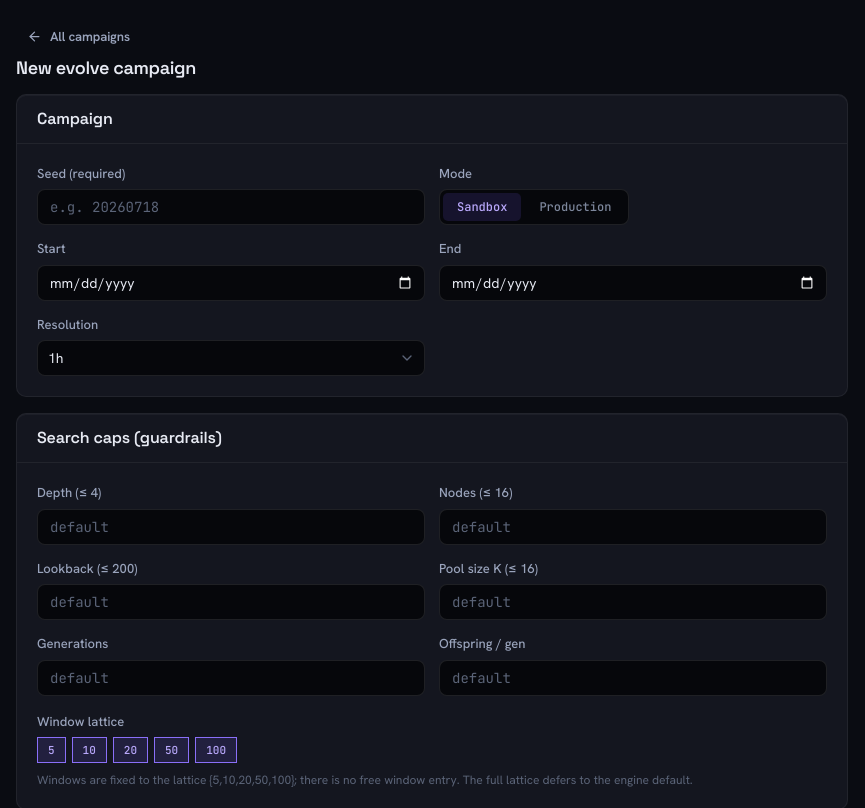
Test: NewCampaign › surfaces a server 400 inline and does not navigate
Type "7" into the field labelled "Seed (required)". click: (231, 207)
box: [48,190,414,224]
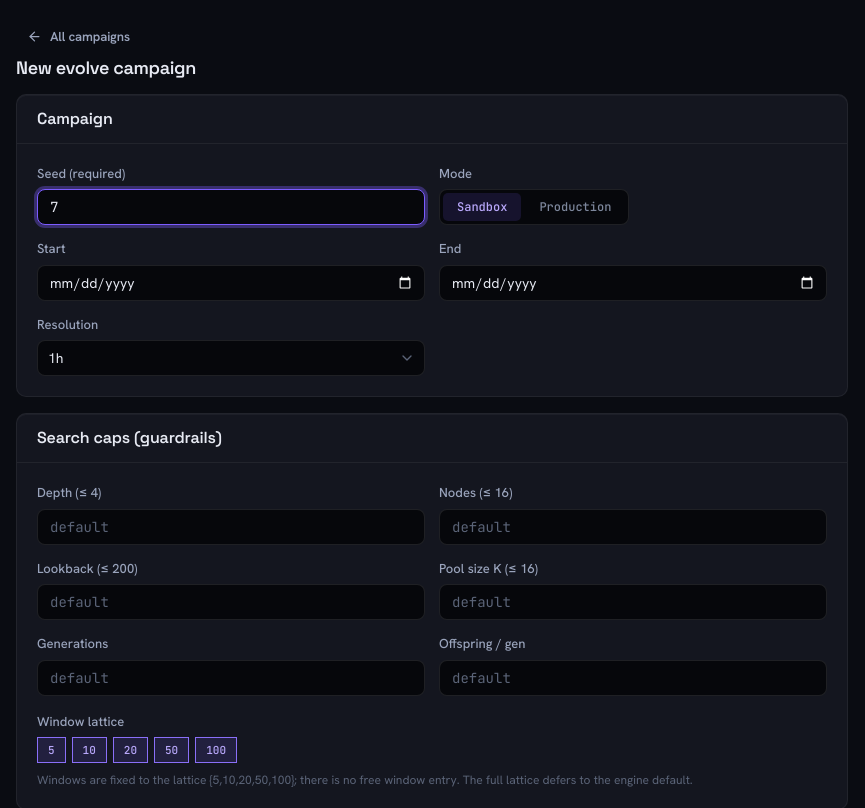
Type "2021-01-01" into the date field labelled "Start". click: (231, 283)
box: [48,266,414,300]
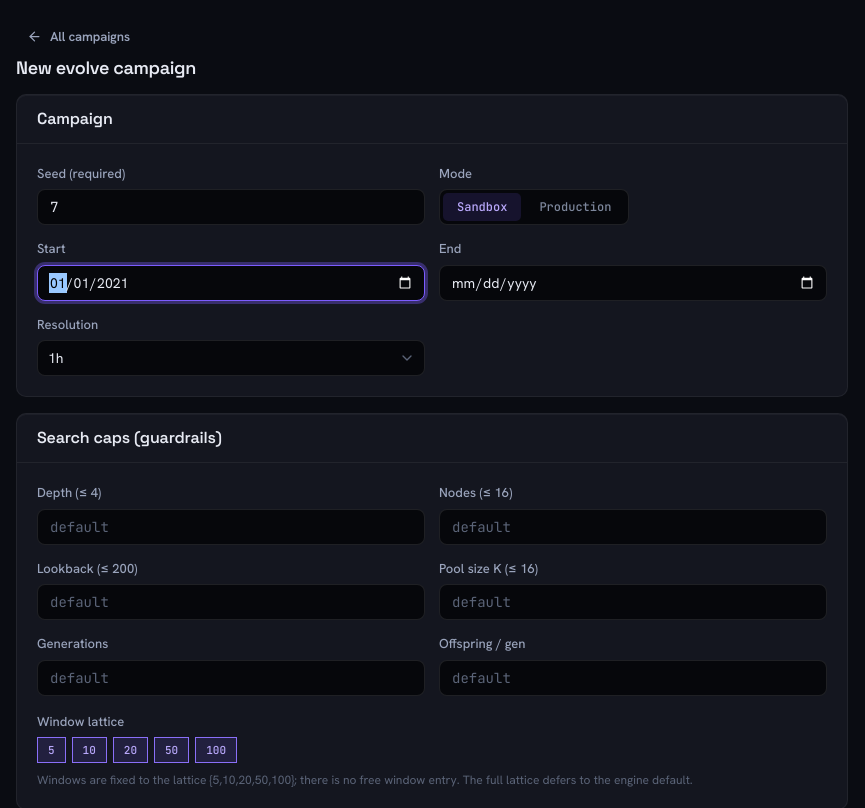
Type "2021-02-01" into the date field labelled "End". click: (633, 283)
box: [450,266,816,300]
(page scrolled)
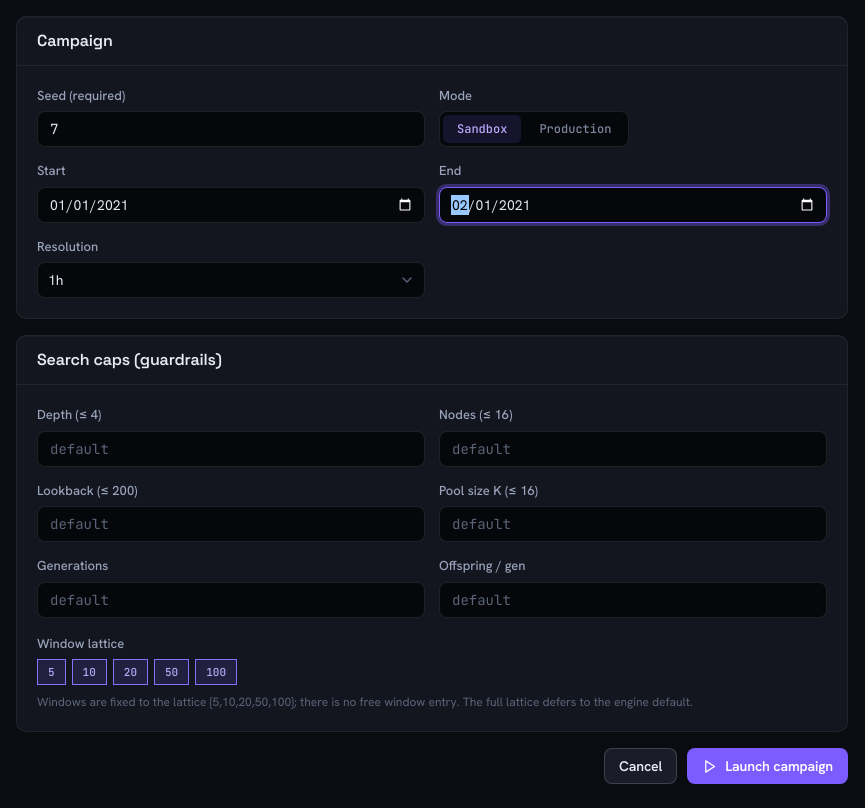
Click the button "Launch campaign". click: (768, 766)
box: [687,748,848,784]
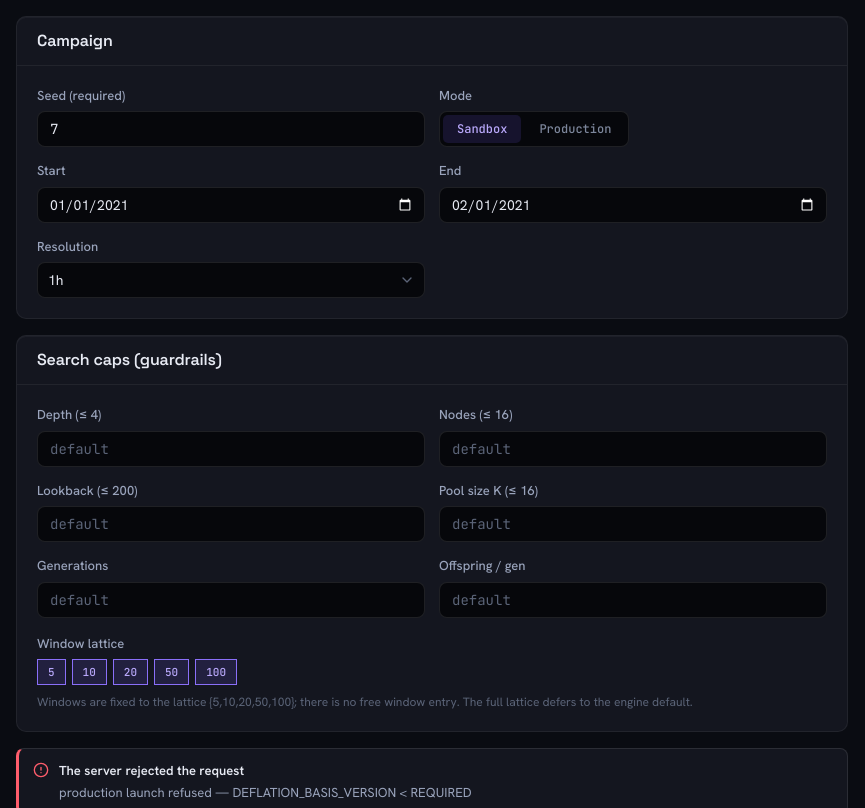
Expected: the text "production launch refused" is shown, [59,784,472,801]
